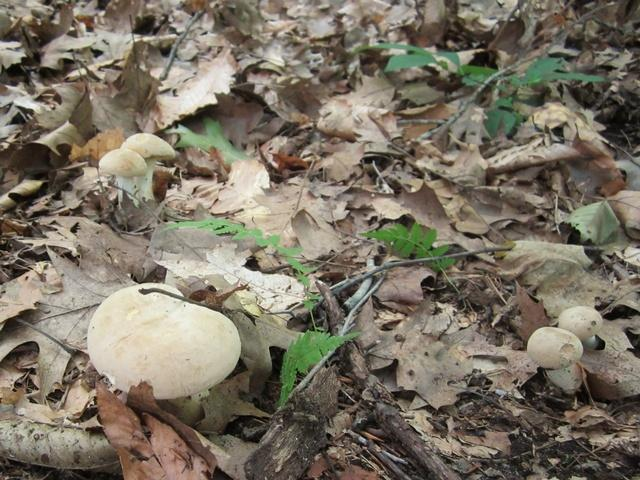Edible Mushroom: (86, 281, 241, 403), (97, 131, 175, 208), (526, 325, 584, 394), (556, 305, 603, 349)
